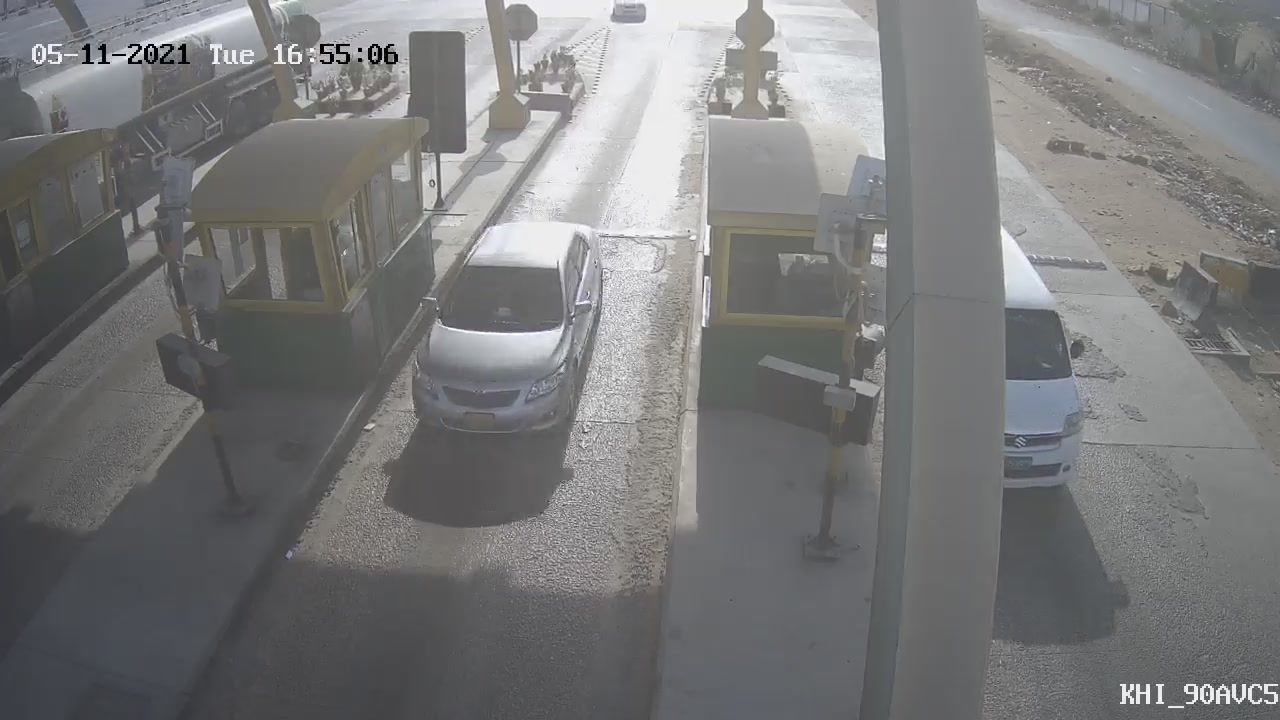F1: (374, 190, 627, 459)
